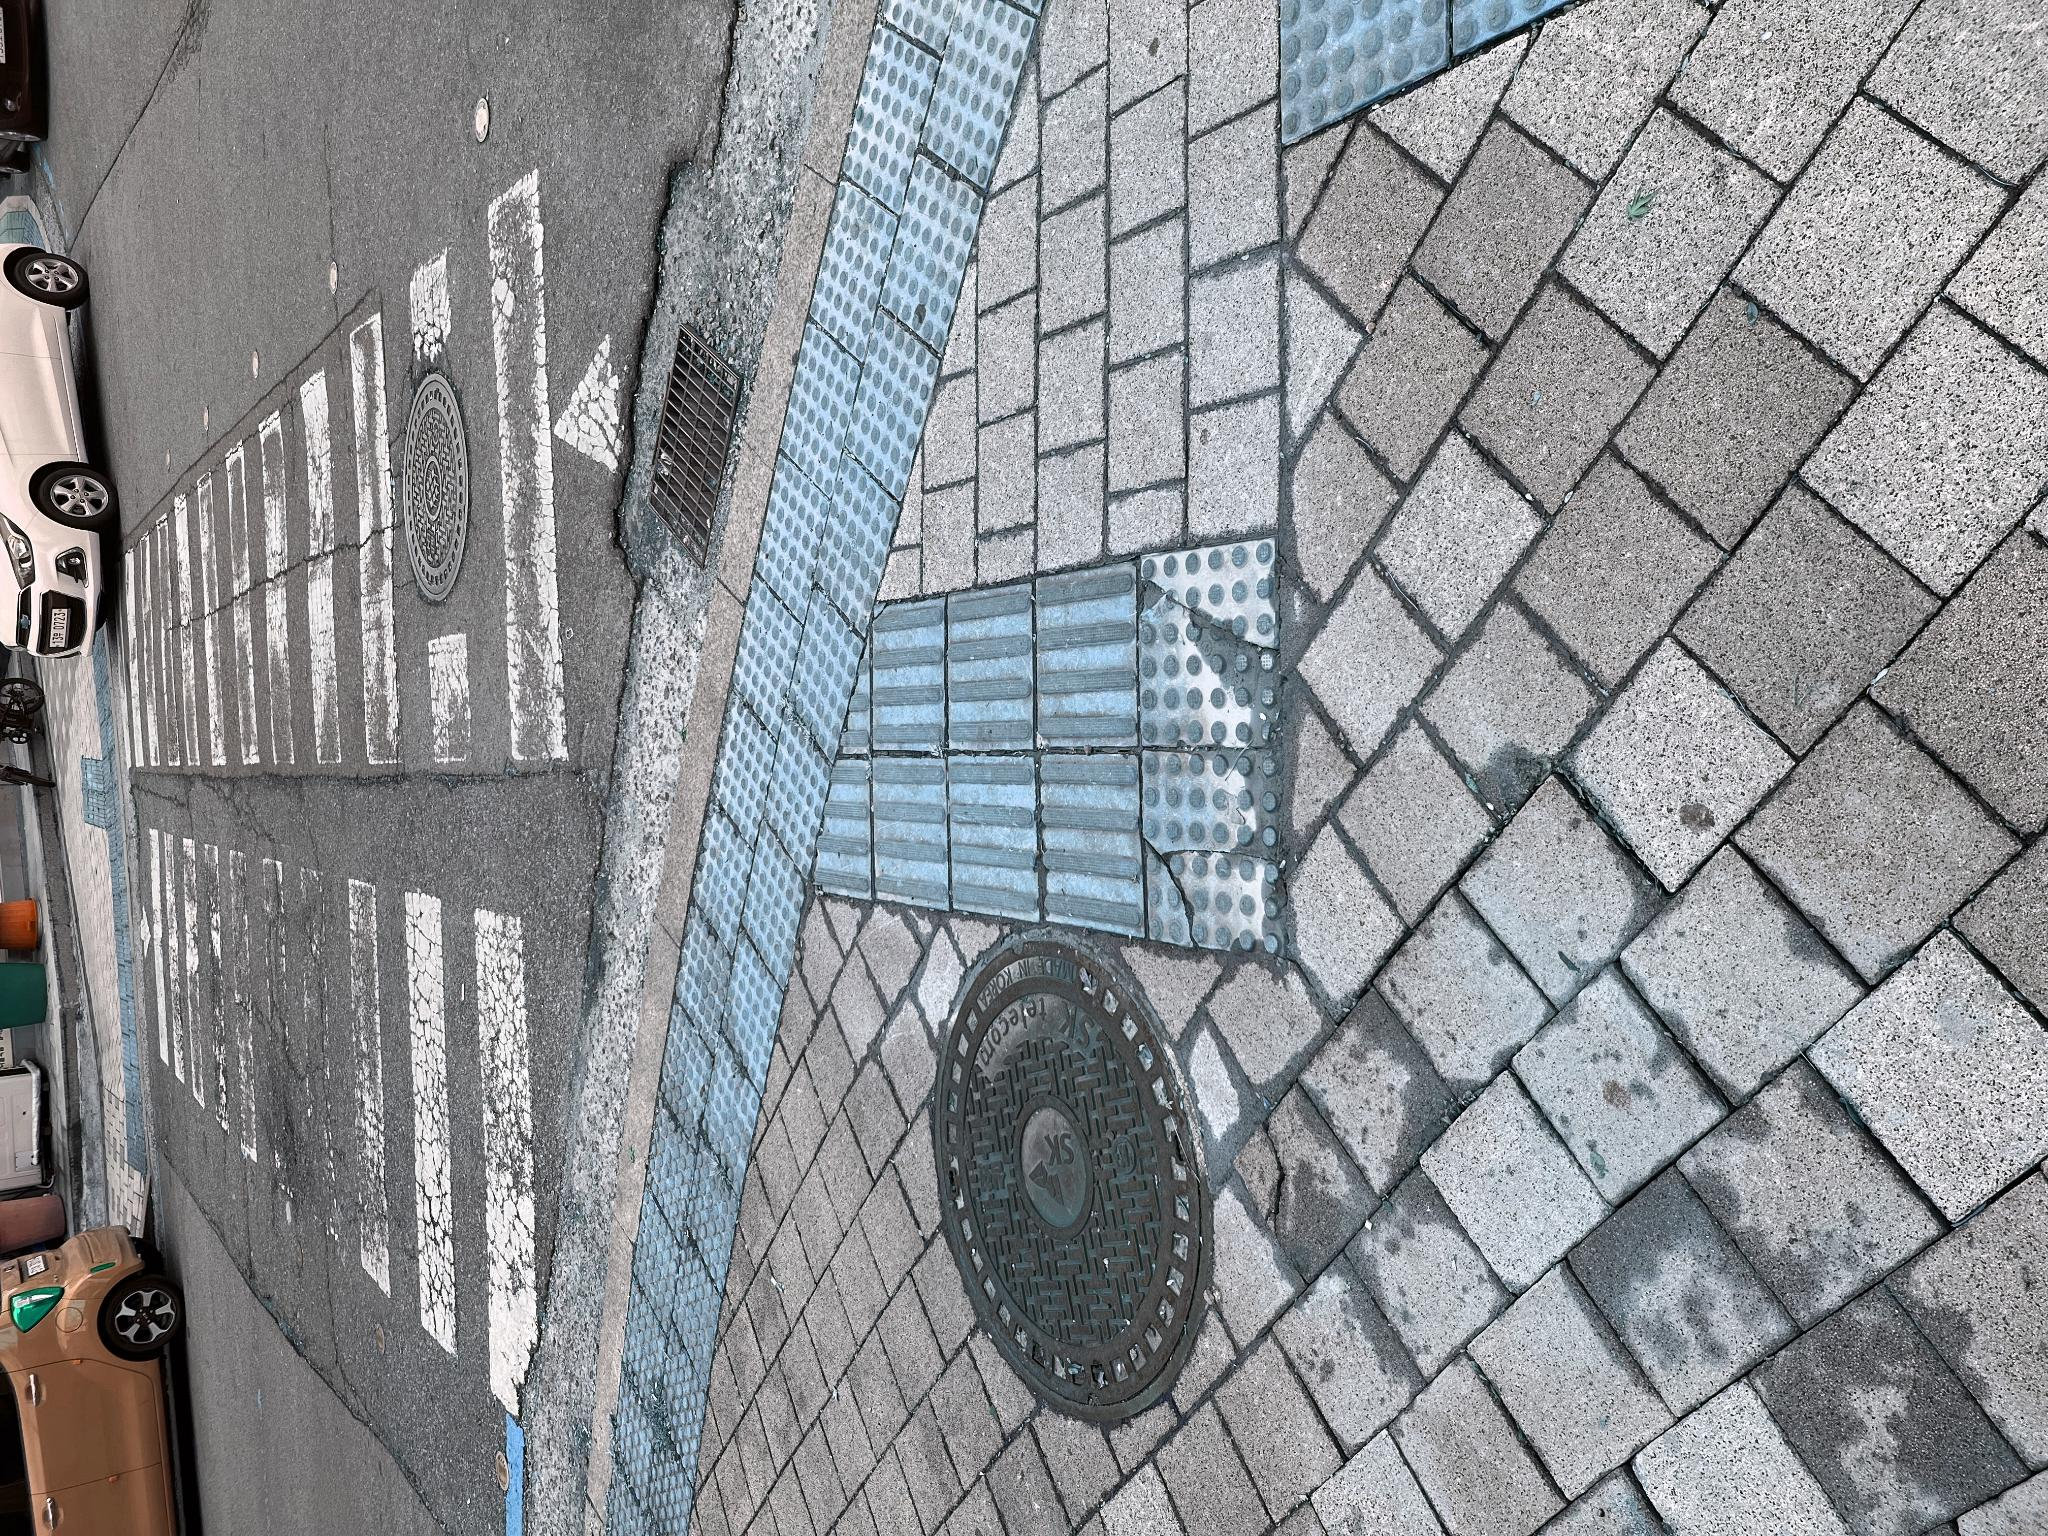Stop block broken: (579, 1142, 785, 1284), (789, 1142, 997, 1275)
Stop block normal: (1035, 844, 1226, 940), (779, 789, 946, 863), (550, 741, 715, 805)
Straight block normal: (612, 948, 781, 1039)
